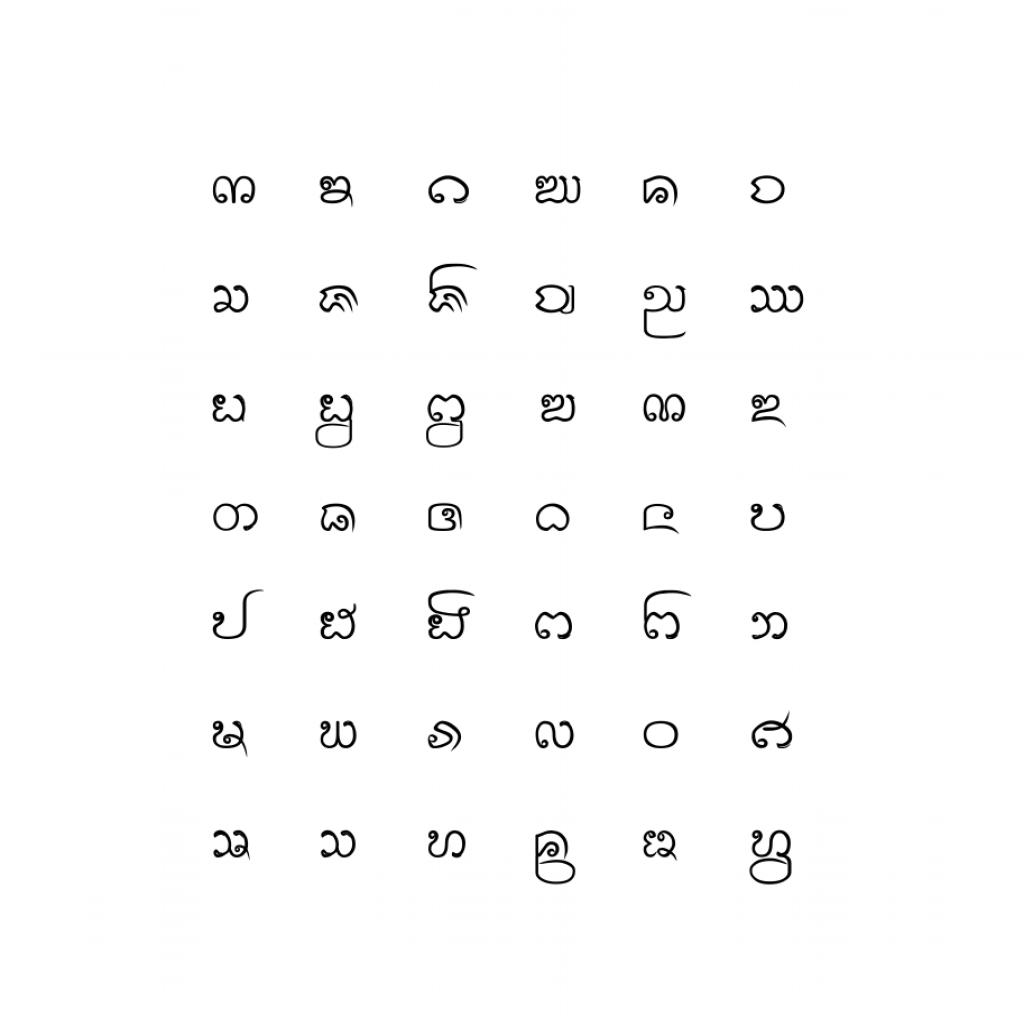LN001: (210, 174, 260, 208)
LN002: (317, 174, 357, 211)
LN003: (425, 173, 474, 208)
LN004: (532, 173, 586, 208)
LN005: (640, 173, 683, 211)
LN006: (748, 173, 790, 208)
LN007: (211, 282, 253, 317)
LN008: (316, 283, 363, 318)
LN009: (425, 261, 482, 318)
LN010: (532, 282, 579, 319)
LN011: (641, 282, 691, 343)
LN012: (748, 282, 808, 317)
LN013: (209, 391, 251, 427)
LN014: (312, 391, 358, 453)
LN015: (423, 392, 470, 452)
LN016: (539, 391, 580, 426)
LN017: (641, 391, 690, 426)
LN018: (749, 393, 791, 432)
LN019: (211, 501, 262, 536)
LN020: (319, 500, 360, 537)
LN021: (425, 501, 467, 536)
LN022: (534, 501, 574, 536)
LN023: (641, 502, 684, 539)
LN024: (748, 501, 790, 536)
LN025: (210, 587, 268, 643)
LN026: (317, 601, 361, 643)
LN027: (425, 588, 479, 644)
LN028: (532, 609, 577, 643)
LN029: (641, 588, 696, 643)
LN030: (748, 609, 792, 644)
LN031: (210, 717, 252, 761)
LN032: (317, 718, 361, 753)
LN033: (425, 718, 465, 756)
LN034: (533, 718, 578, 753)
LN035: (641, 718, 684, 752)
LN036: (749, 708, 798, 754)
LN037: (210, 827, 255, 865)
LN038: (318, 827, 361, 863)
LN039: (426, 828, 471, 863)
LN040: (531, 828, 581, 889)
LN041: (641, 828, 681, 865)
LN042: (747, 828, 797, 889)
